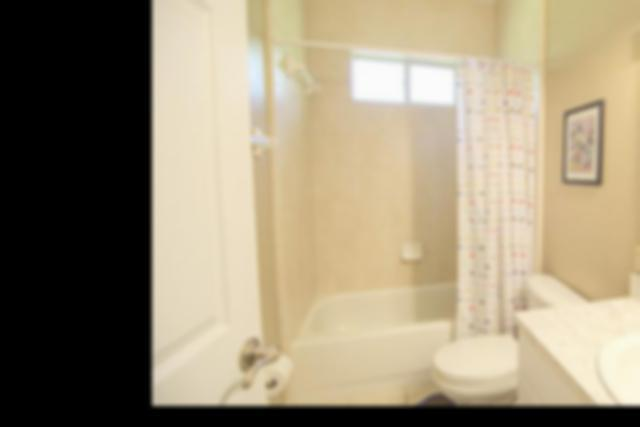Lavamanos: (597, 311, 640, 405)
